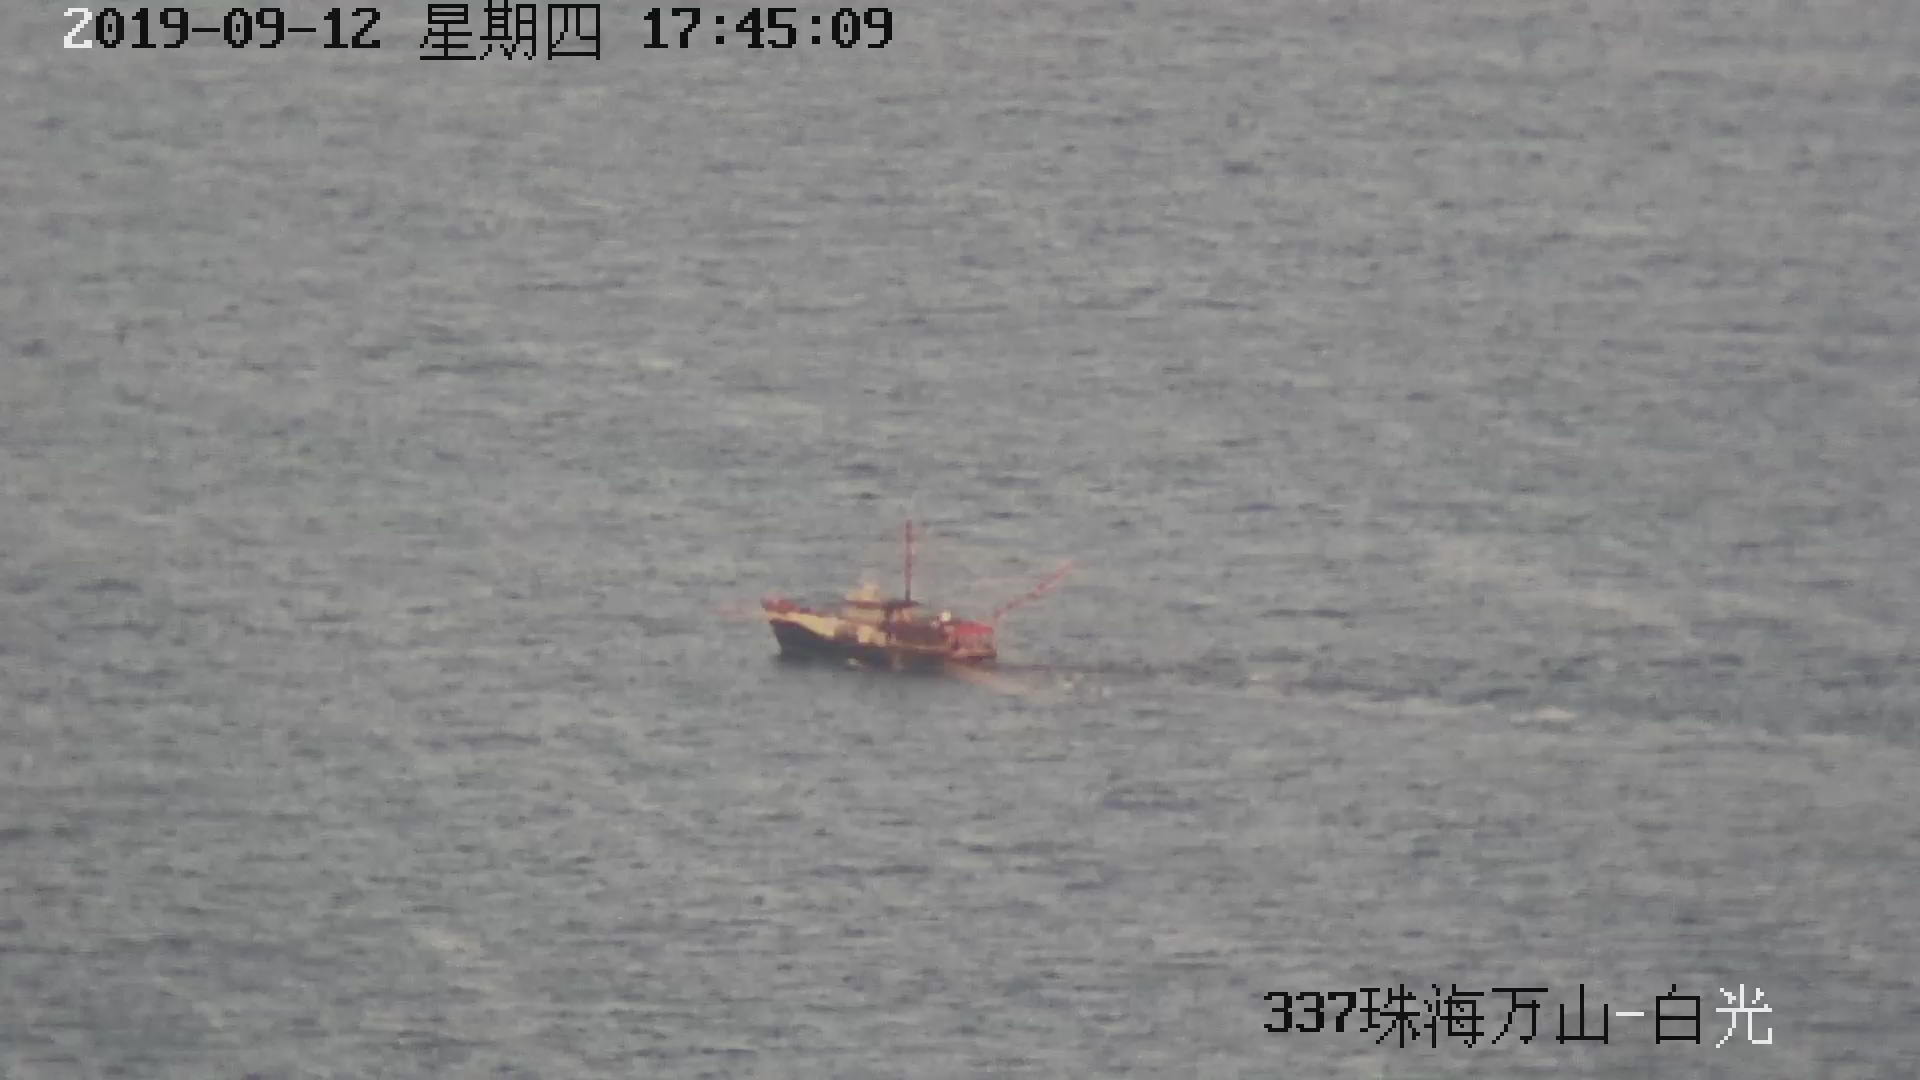ship: (760, 508, 1000, 679)
